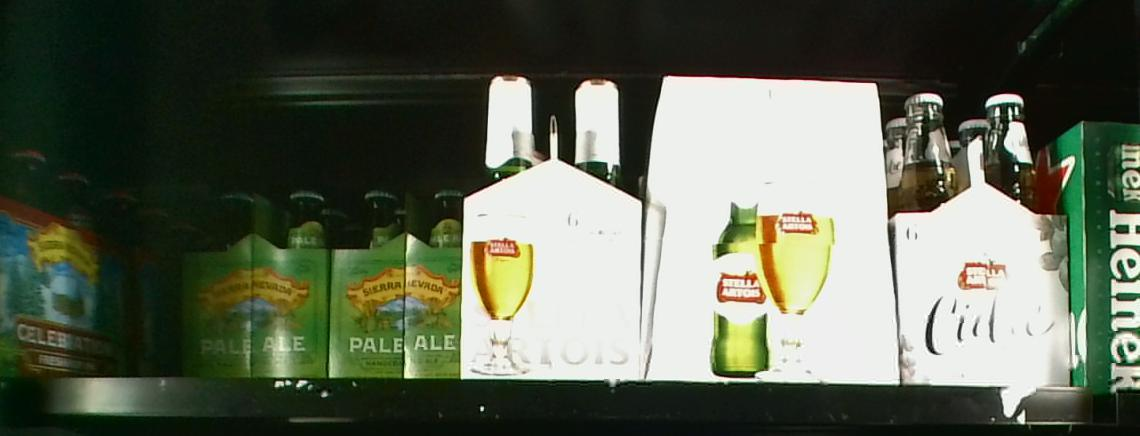bottle: (654, 75, 894, 383), (461, 78, 647, 378), (900, 88, 1067, 386), (182, 185, 329, 374), (332, 186, 461, 382)
